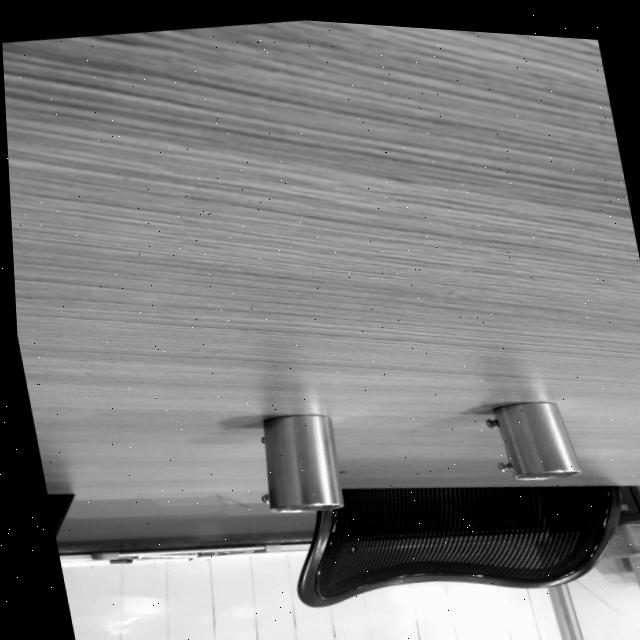Co_Lon: (252, 412, 342, 515)
Co_Nho: (480, 394, 579, 488)
